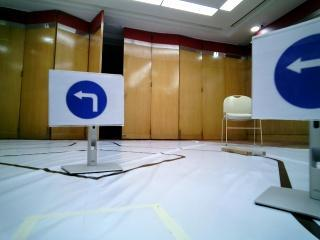left: (61, 77, 120, 123)
